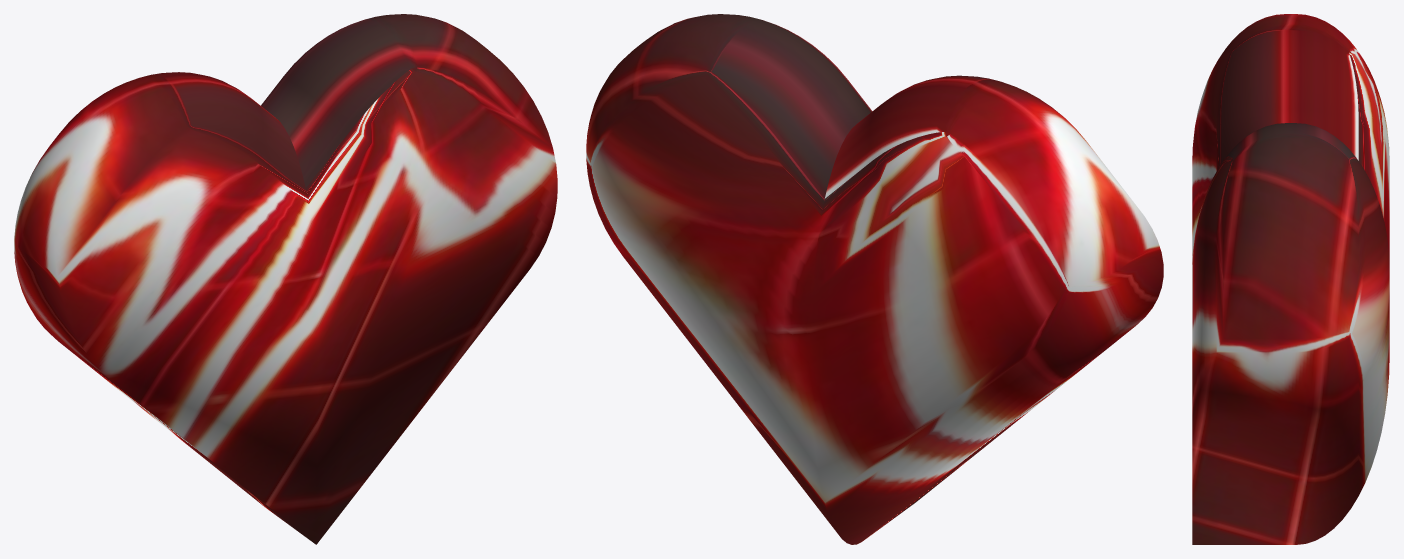
3 renders of one model, left to right at view 1: azimuth 30°, elevation 25°; view 2: azimuth 150°, elevation 25°; view 3: azimuth 270°, elevation 25°, orthographic. The views are drawn at different scales.
Parts seen in each view (by area): view 1: Cube; view 2: Cube; view 3: Cube.
Boxes of the visible parts, left/top/right/bottom form: Cube: left=14, top=14, right=557, bottom=544; Cube: left=586, top=14, right=1163, bottom=544; Cube: left=1192, top=14, right=1389, bottom=544.
Size of the model in its own units: 14.37 by 12.67 by 4.84.
1 material, 1 textured.
